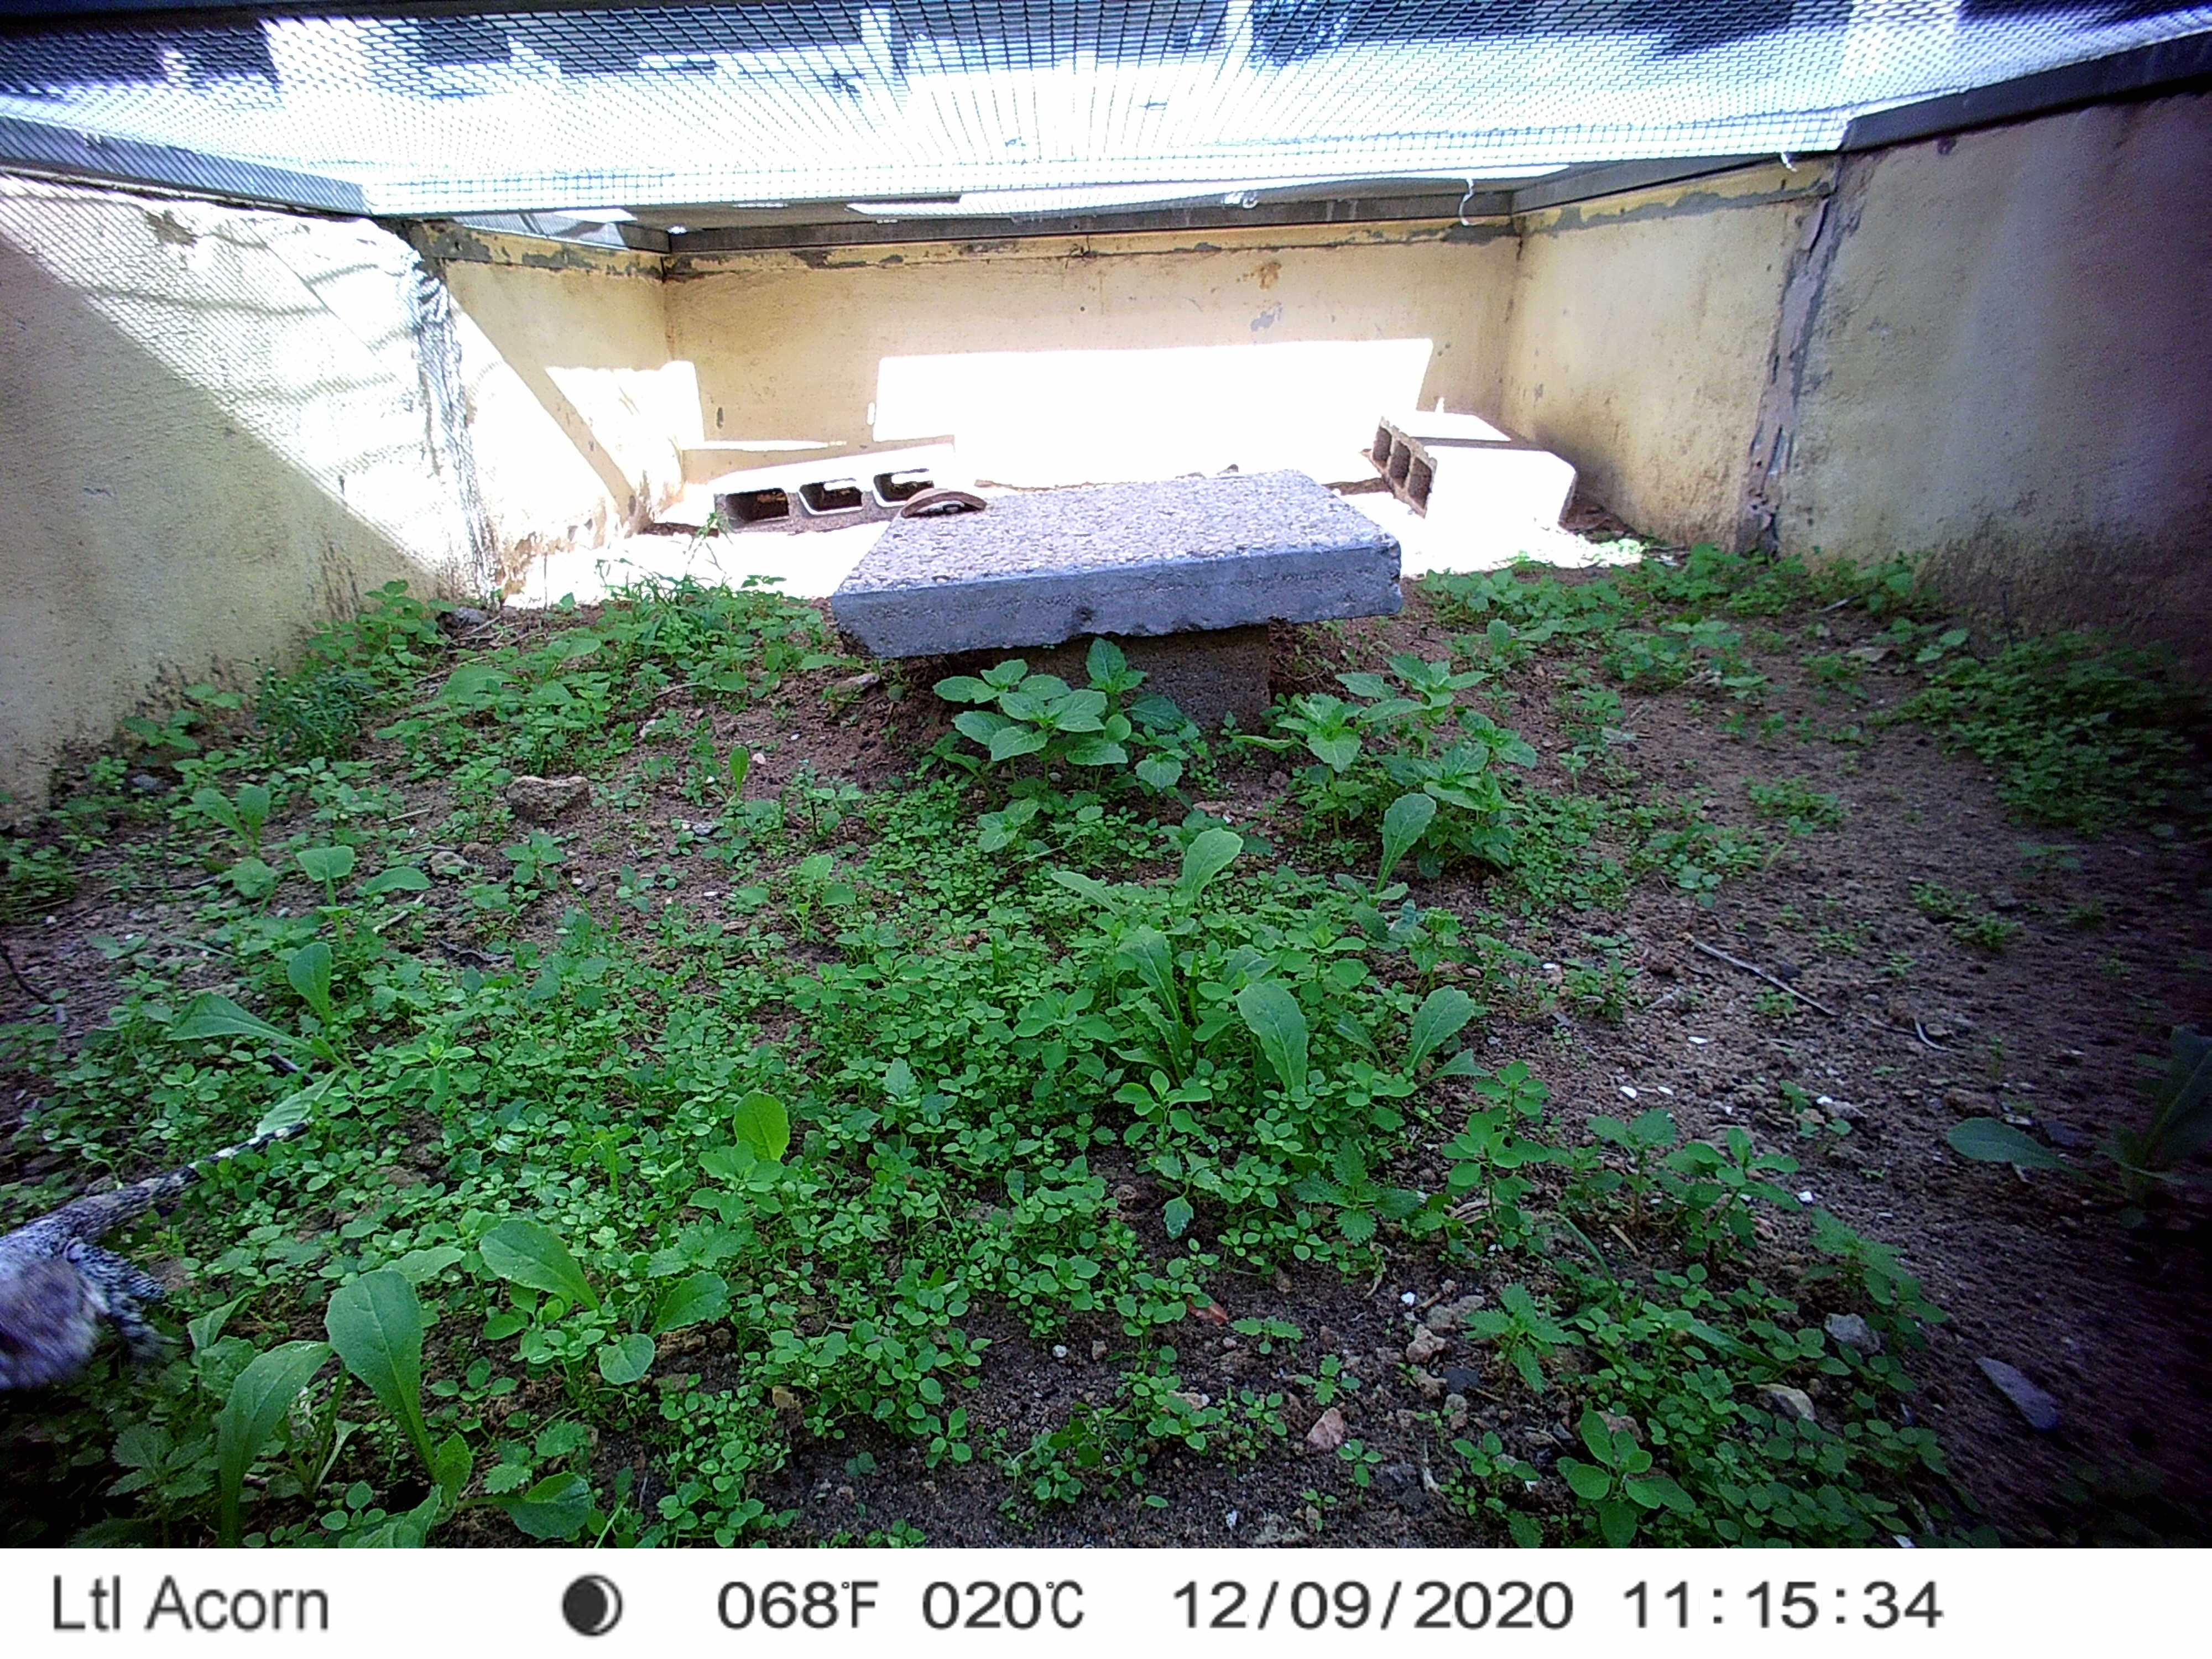lizard: (0, 1112, 314, 1401)
